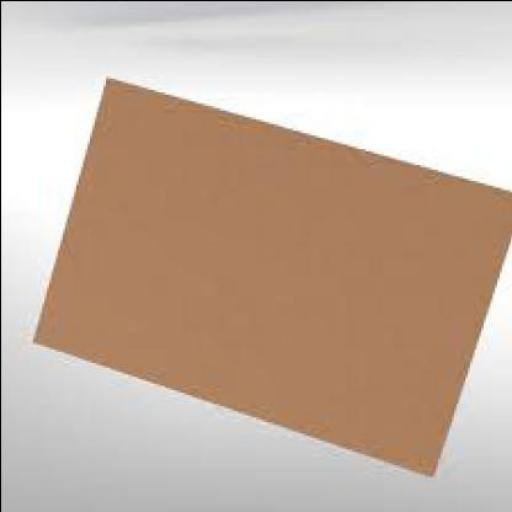cardboard: (30, 80, 510, 478)
